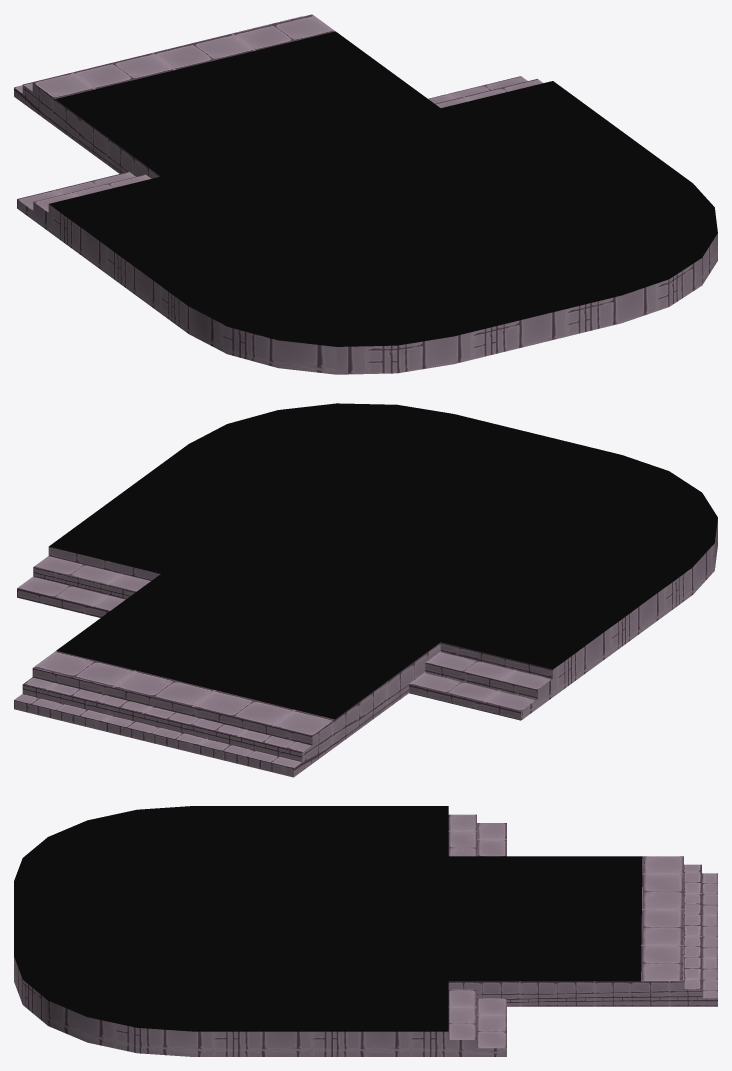
Rendered from Back stair stair.fbx.
The picture shows the model from 3 angles, top to bottom: view 1: azimuth 30°, elevation 25°; view 2: azimuth 150°, elevation 25°; view 3: azimuth 270°, elevation 25°; orthographic projection. The views are drawn at different scales.
Visible parts, largest first — view 1: pCube411; view 2: pCube411; view 3: pCube411.
Boxes of the visible parts, box(x1,y1,x2,y2) form: pCube411: box(14, 14, 717, 374); pCube411: box(14, 403, 717, 777); pCube411: box(14, 806, 717, 1056).
Bounding box in the file's own units: 2108 × 111 × 2782.
